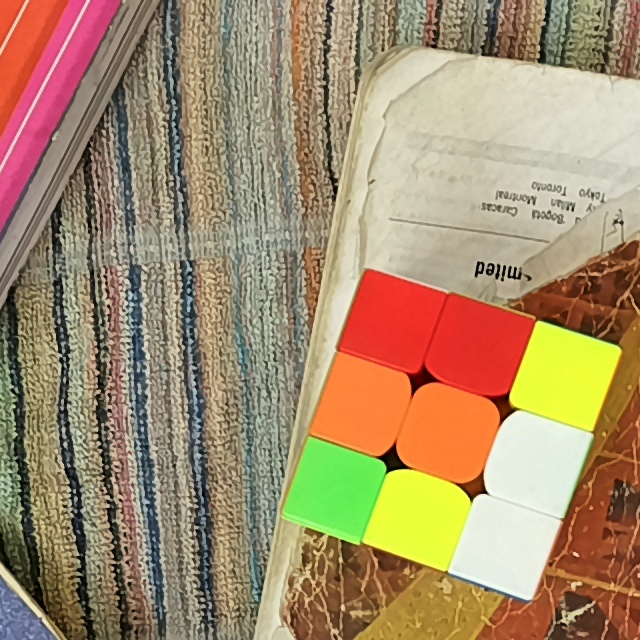tile: (504, 425, 573, 493), (413, 402, 482, 468), (532, 342, 597, 410), (445, 315, 511, 381), (470, 514, 540, 576), (358, 291, 424, 352), (383, 486, 451, 545), (331, 374, 392, 437), (302, 460, 366, 519)
